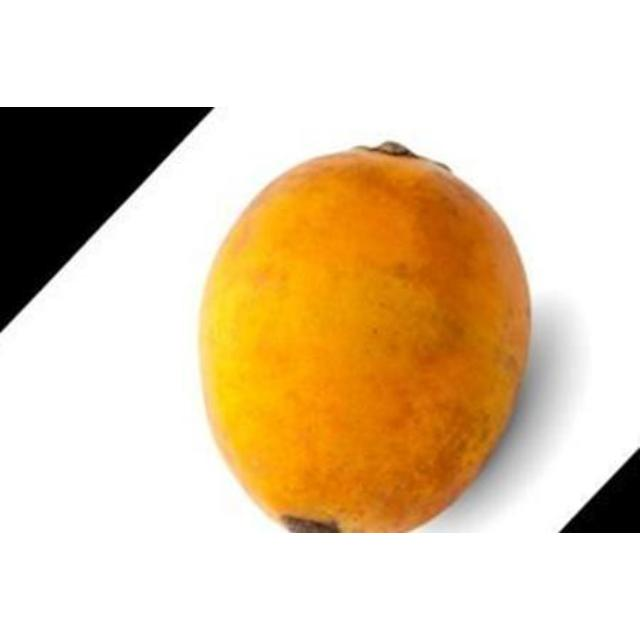good: (196, 143, 533, 532)
